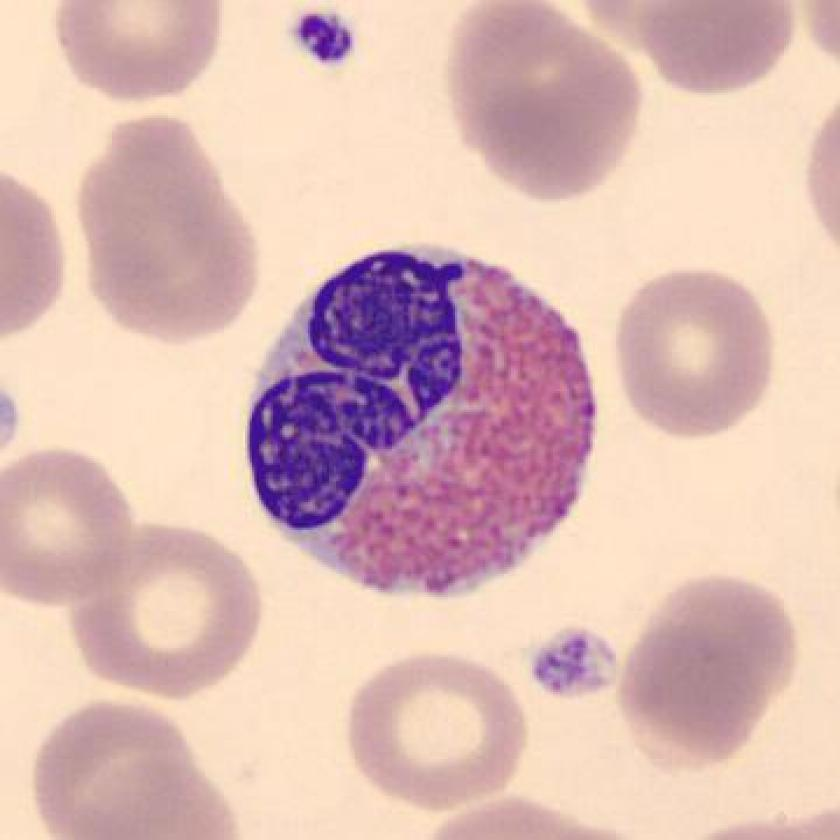eosinophil: (230, 232, 615, 612)
